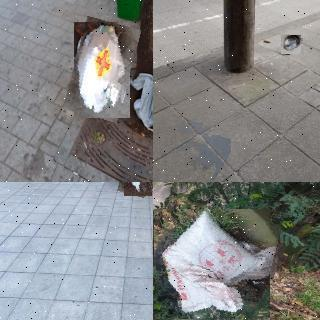Garbage: (153, 202, 275, 320), (69, 19, 136, 121), (120, 182, 153, 197), (280, 34, 302, 55)
